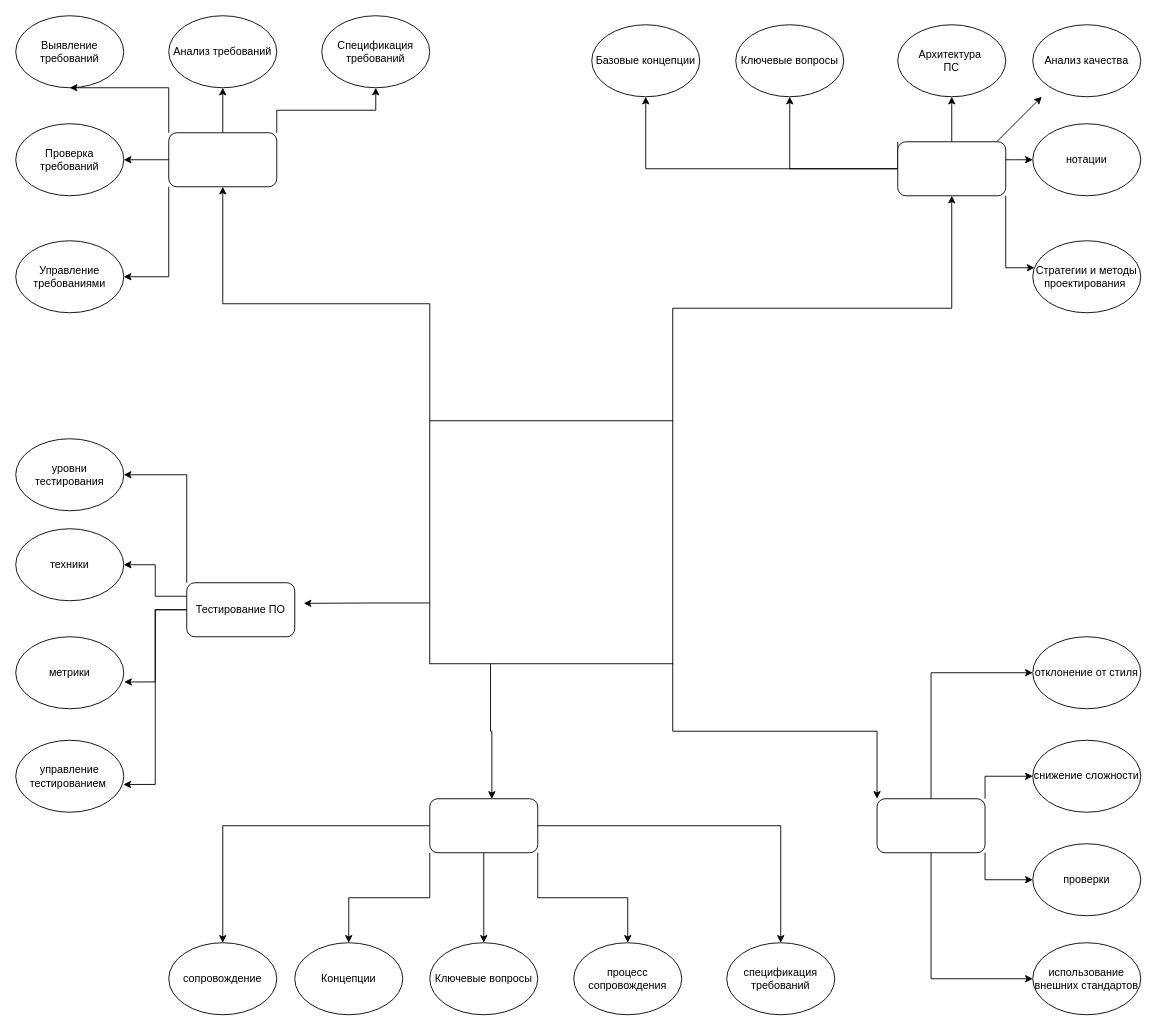
This 1157x1031 diagram has some shape labels left out. Here are the shapes that lost their labels. From the top down, the box of each, then its label:
(168, 132, 277, 187): Инженерия требований
(897, 141, 1006, 196): Проектирование ПО
(429, 420, 673, 664): Программная инженерия
(429, 798, 538, 853): Сопровождение ПО
(876, 798, 985, 853): Конструирование ПО
